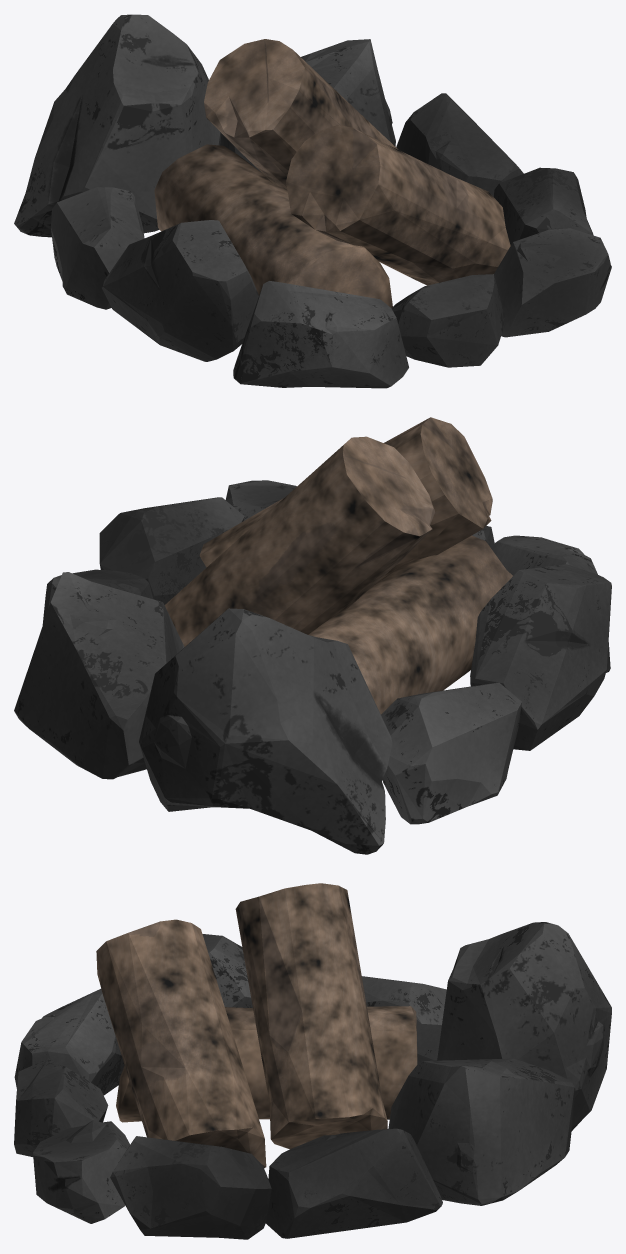
Rendered from campfire.obj.
3 renders of one model, top to bottom at view 1: azimuth 30°, elevation 25°; view 2: azimuth 150°, elevation 25°; view 3: azimuth 270°, elevation 25°, orthographic. The views are drawn at different scales.
Visible parts, largest first — view 1: campfire_model:subtool14_campfire_model6_stone2_0, campfire_model:subtool14_campfire_model6_wood_0, campfire_model:subtool14_campfire_model6_stone_0; view 2: campfire_model:subtool14_campfire_model6_stone_0, campfire_model:subtool14_campfire_model6_wood_0, campfire_model:subtool14_campfire_model6_stone2_0; view 3: campfire_model:subtool14_campfire_model6_stone_0, campfire_model:subtool14_campfire_model6_wood_0, campfire_model:subtool14_campfire_model6_stone2_0.
Part boxes in pixels (<box>): campfire_model:subtool14_campfire_model6_stone2_0: <box>51,187,611,388</box>; campfire_model:subtool14_campfire_model6_wood_0: <box>154,39,510,307</box>; campfire_model:subtool14_campfire_model6_stone_0: <box>14,14,593,245</box>; campfire_model:subtool14_campfire_model6_stone_0: <box>14,497,392,854</box>; campfire_model:subtool14_campfire_model6_wood_0: <box>164,417,512,714</box>; campfire_model:subtool14_campfire_model6_stone2_0: <box>225,480,611,824</box>; campfire_model:subtool14_campfire_model6_stone_0: <box>110,922,611,1239</box>; campfire_model:subtool14_campfire_model6_wood_0: <box>96,883,417,1168</box>; campfire_model:subtool14_campfire_model6_stone2_0: <box>14,934,446,1223</box>.
Bounding box in the file's own units: 8.91 × 4.86 × 10.46.
3 materials, 3 textured.
